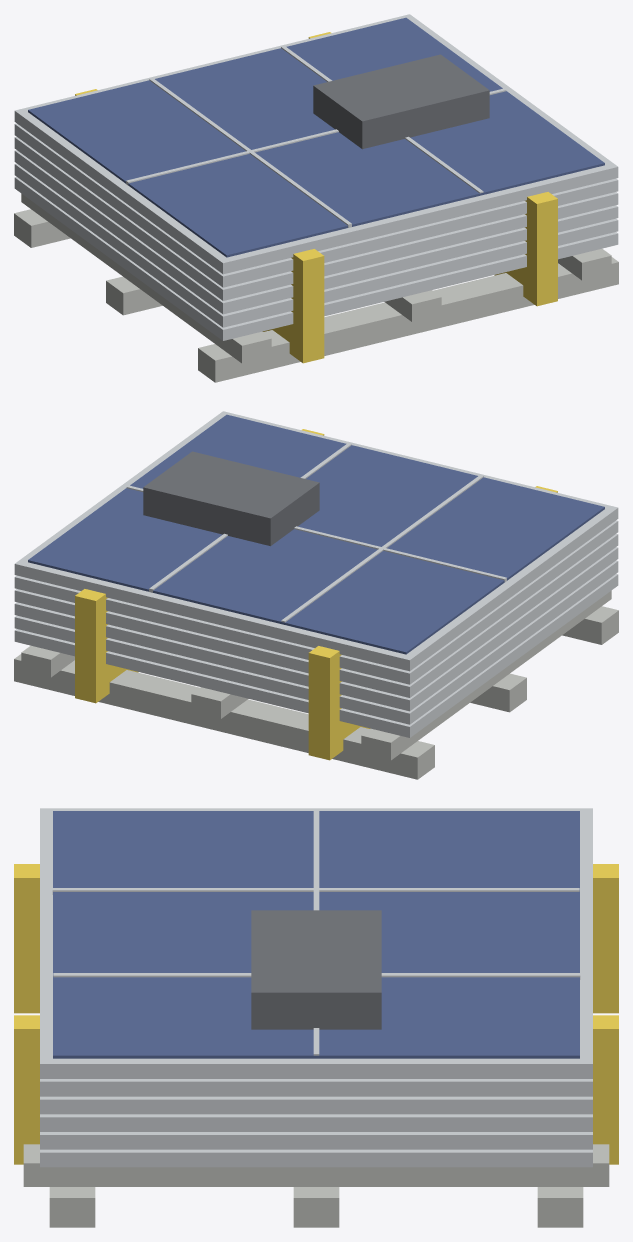
Rendered from wind-and-solar-energy-farm-spare-panel-pallet-stack-d536b1f1__34066.glb.
3 renders of one model, top to bottom at view 1: azimuth 30°, elevation 25°; view 2: azimuth 150°, elevation 25°; view 3: azimuth 270°, elevation 25°, orthographic. The views are drawn at different scales.
Visible parts, largest first — view 1: spare-panel-pallet-stack; view 2: spare-panel-pallet-stack; view 3: spare-panel-pallet-stack.
Part boxes in pixels (x1,y1,x2,y2): spare-panel-pallet-stack: [14, 14, 618, 382]; spare-panel-pallet-stack: [14, 411, 618, 779]; spare-panel-pallet-stack: [14, 808, 618, 1227].
Size of the model in its own units: 1.9 by 0.68 by 1.86.
